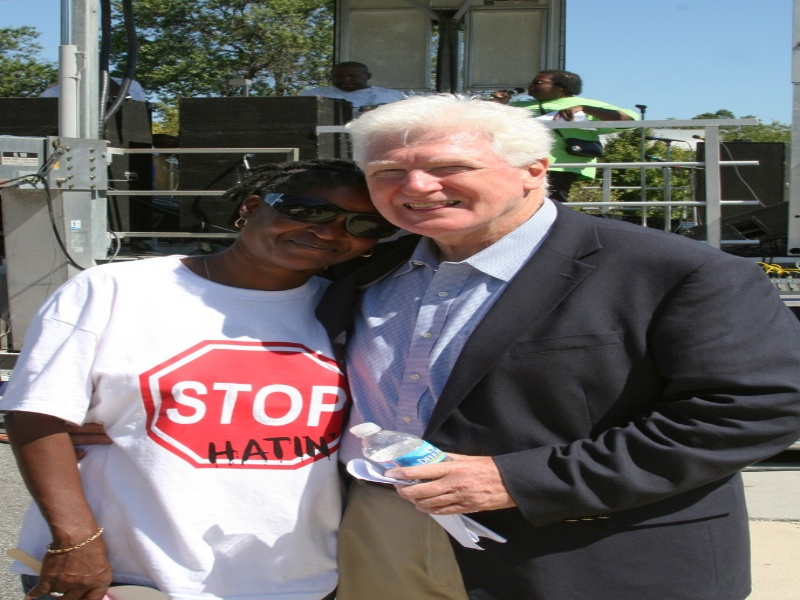stop: (137, 330, 355, 471)
